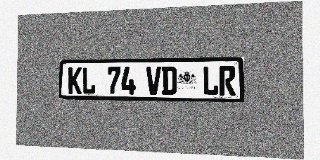4: (121, 67, 136, 95)
7: (107, 67, 121, 95)
D: (162, 66, 177, 95)
K: (68, 67, 82, 94)
L: (202, 66, 219, 95), (82, 67, 96, 94)
R: (219, 66, 236, 96)
V: (146, 66, 161, 95)
